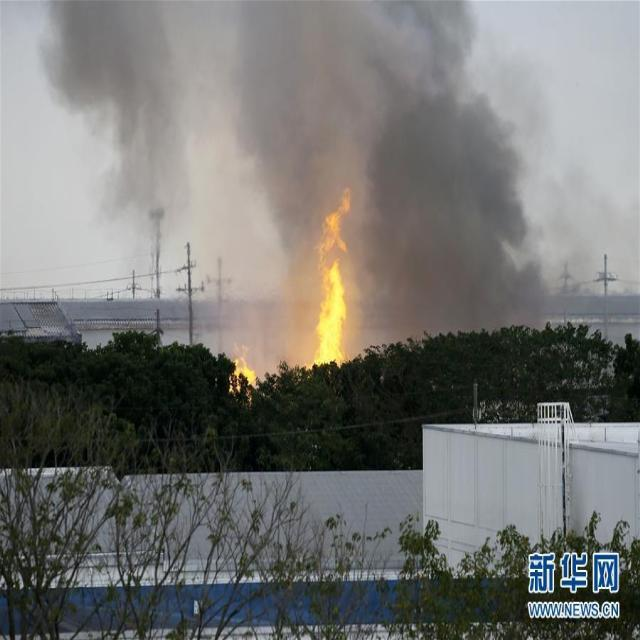Fire: (311, 186, 348, 368), (228, 353, 258, 395)
Smoke: (39, 1, 550, 370)
